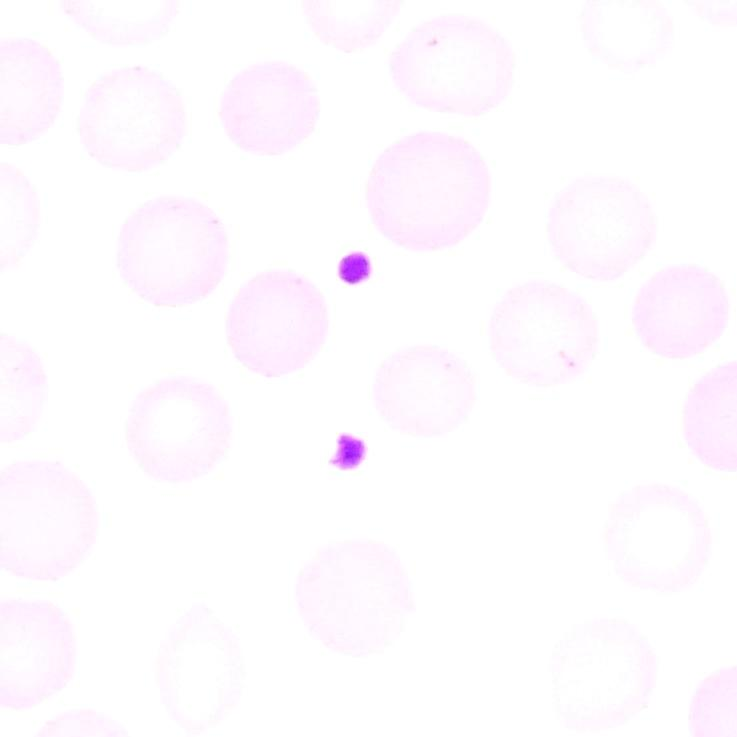Uninfected: (370, 131, 493, 251), (546, 615, 662, 726), (294, 540, 410, 650), (600, 483, 713, 594), (391, 15, 513, 116), (117, 197, 228, 305), (484, 282, 598, 387), (544, 173, 654, 280), (77, 63, 188, 169), (0, 459, 98, 578), (129, 375, 237, 482), (226, 272, 330, 376), (370, 340, 478, 435), (216, 60, 319, 155), (633, 262, 730, 360), (0, 600, 77, 709)
